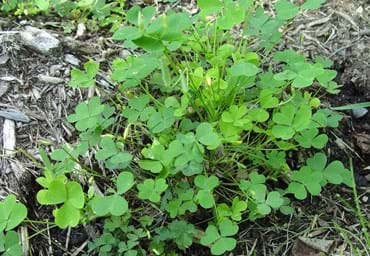oxalis: (109, 24, 357, 233), (31, 180, 98, 225)
